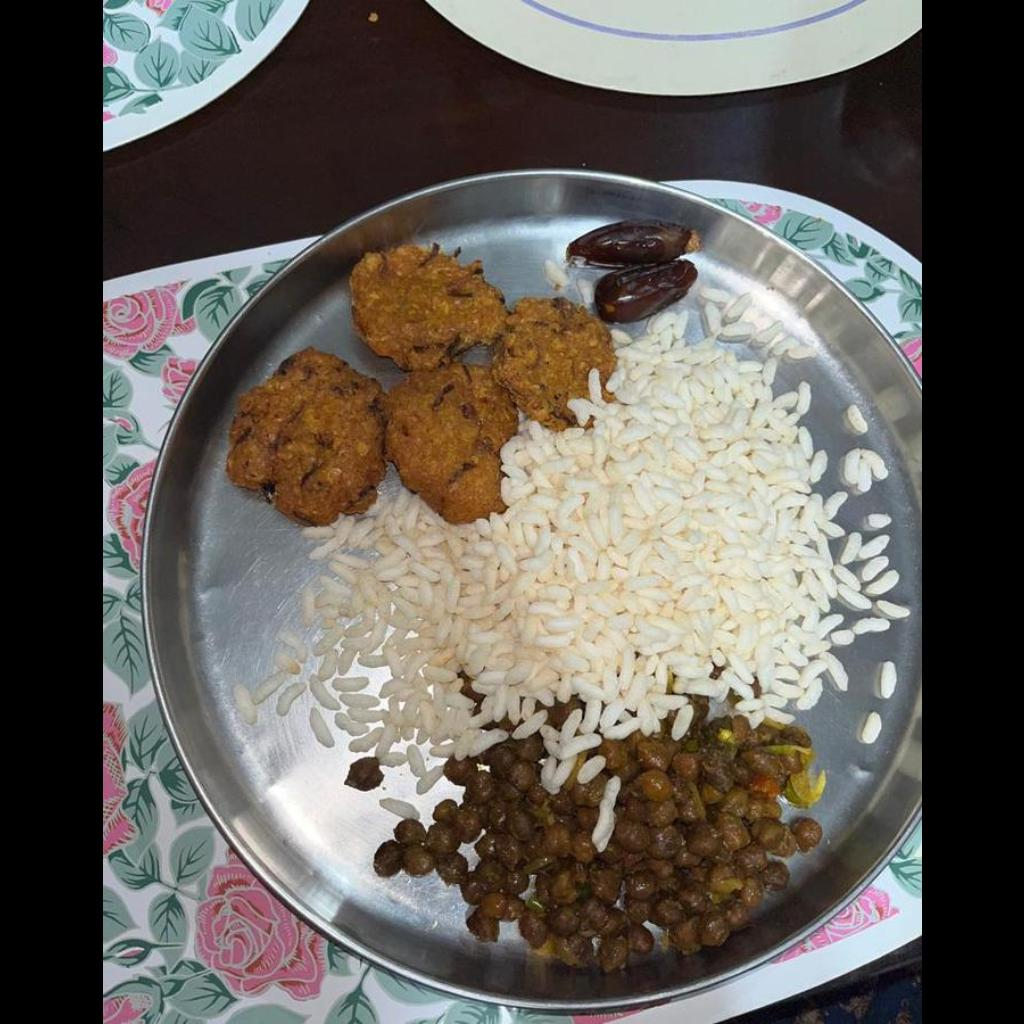chola: (373, 705, 820, 971)
dates: (565, 218, 701, 318)
peyaju: (236, 242, 616, 523)
puffed-rice: (236, 290, 908, 816)
